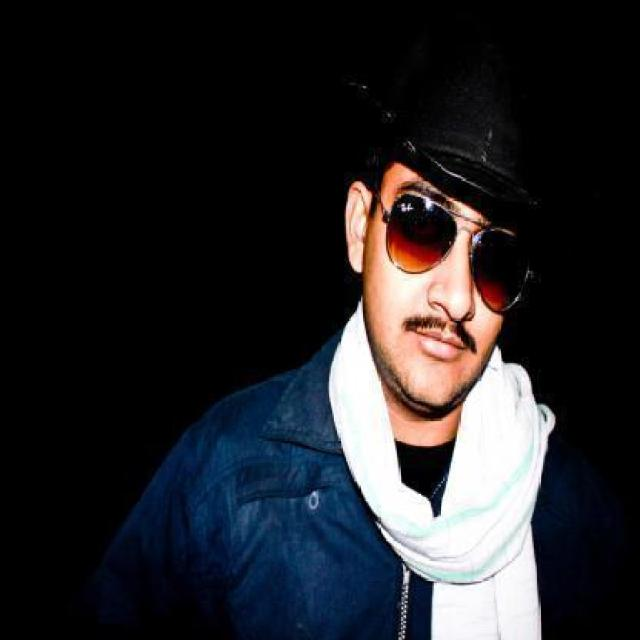face_nomask: (377, 185, 529, 381)
glasses: (374, 190, 541, 315)
head_nohelmet: (330, 50, 581, 235)
